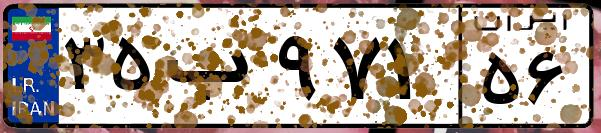1: (385, 28, 445, 110)
3: (57, 26, 110, 100)
5: (475, 38, 525, 113), (110, 28, 158, 98)
6: (525, 38, 570, 115)
7: (330, 28, 385, 110)
9: (270, 28, 330, 110)
ب: (158, 20, 270, 120)
